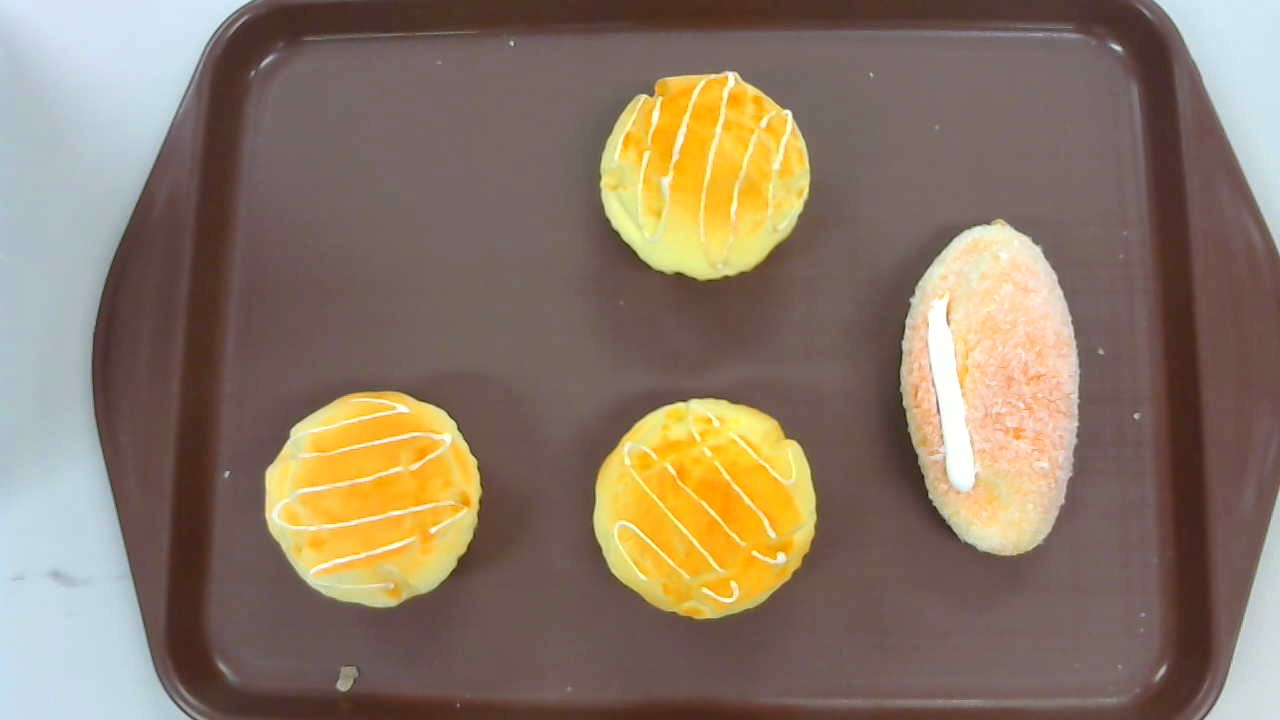coconut: (900, 218, 1081, 559)
cupcake: (592, 396, 817, 621), (263, 391, 482, 606), (599, 69, 811, 282)
